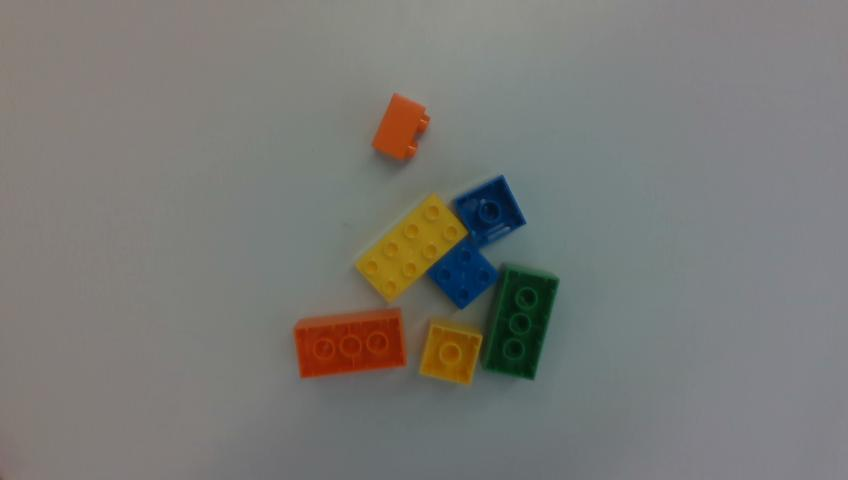2x2_blue: (453, 175, 525, 248), (427, 238, 497, 308)
2x2_orange: (373, 94, 429, 159)
2x2_yellow: (420, 318, 481, 384)
4x2_green: (483, 266, 558, 379)
4x2_orange: (294, 308, 406, 377)
4x2_yellow: (357, 194, 467, 302)
